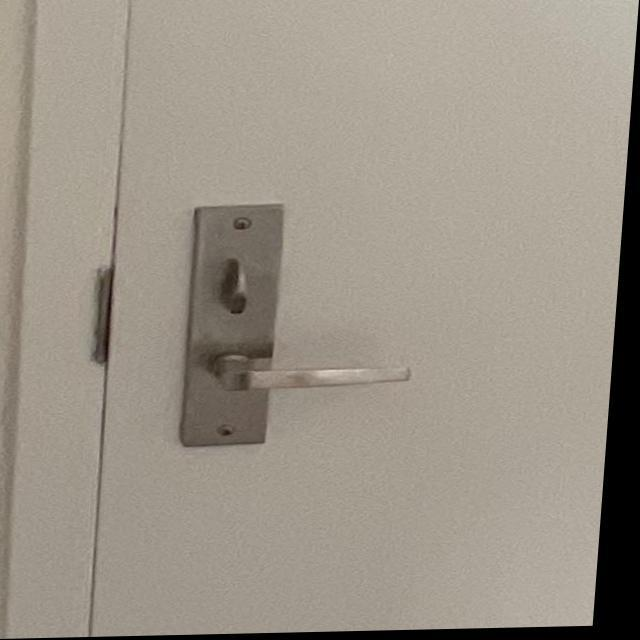door_handle: (178, 341, 444, 407)
